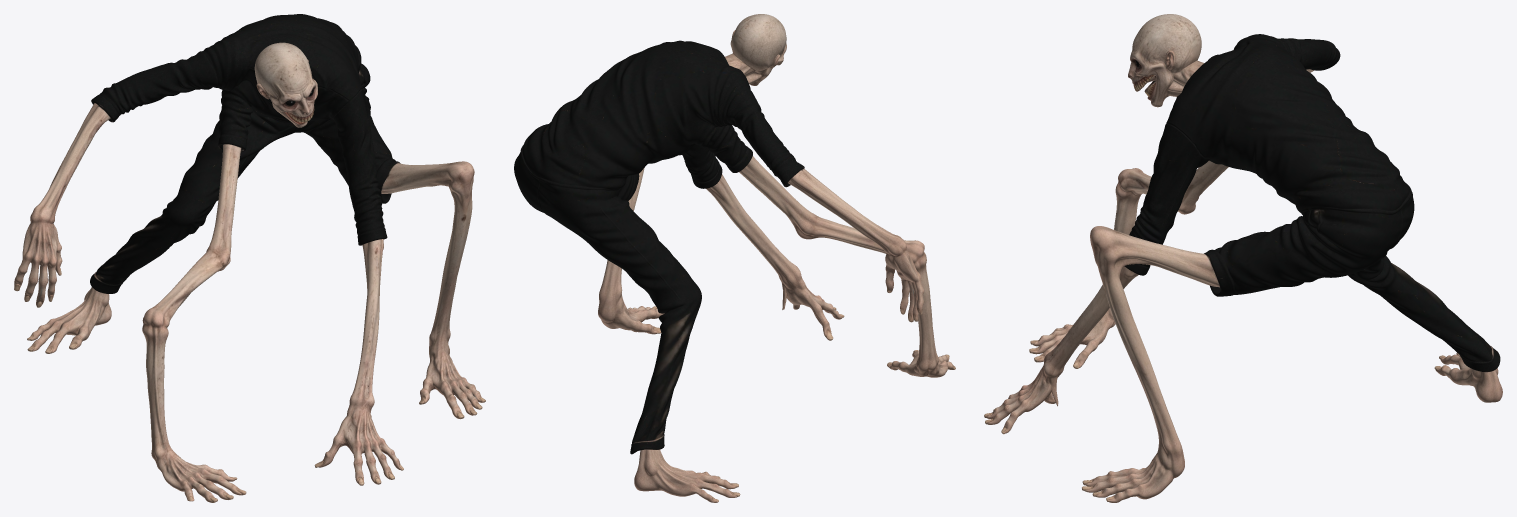
The model's file is KitchenCrawler.fbx.
3 views of the same model, side by side, from view 1: azimuth 30°, elevation 25°; view 2: azimuth 150°, elevation 25°; view 3: azimuth 270°, elevation 25° (orthographic). The views are drawn at different scales.
Parts seen in each view (by area): view 1: KitchenCrawler; view 2: KitchenCrawler; view 3: KitchenCrawler.
Part boxes in pixels (x1=…): KitchenCrawler: x1=14, y1=14, x2=485, y2=502; KitchenCrawler: x1=514, y1=14, x2=955, y2=502; KitchenCrawler: x1=984, y1=14, x2=1502, y2=502.
Bounding box in the file's own units: 1.76 × 1.62 × 1.9.
Materials: 1 (1 with a texture image).
